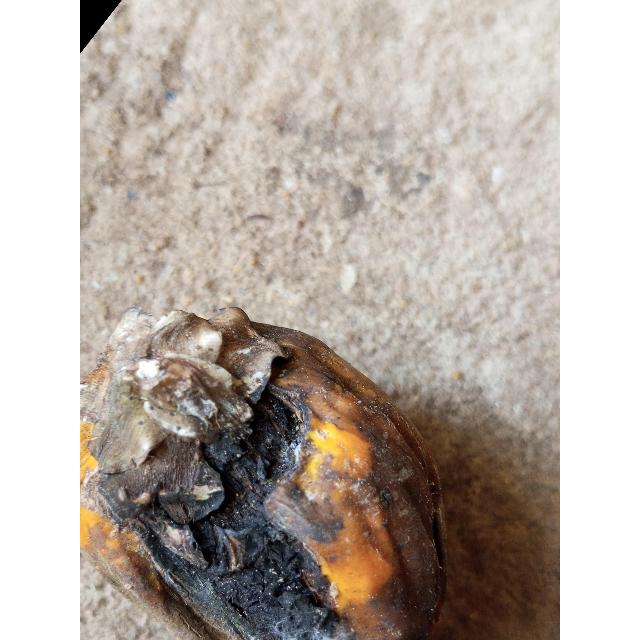damaged: (80, 307, 491, 640)
